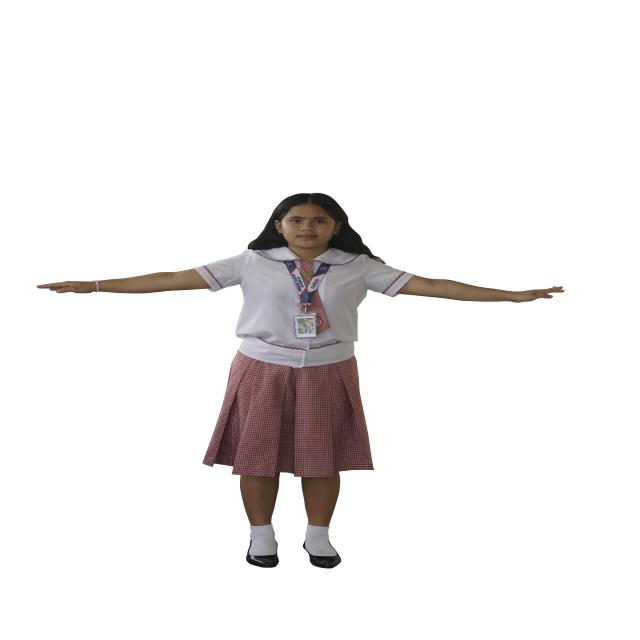id lace: (284, 260, 330, 303)
pologirl: (195, 247, 414, 368), (308, 292, 330, 332), (300, 261, 314, 274), (302, 273, 311, 286)
shoes: (246, 551, 279, 568), (309, 554, 341, 569)
skirt: (203, 351, 373, 477)
